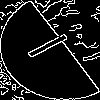I: (25, 25, 80, 61)
